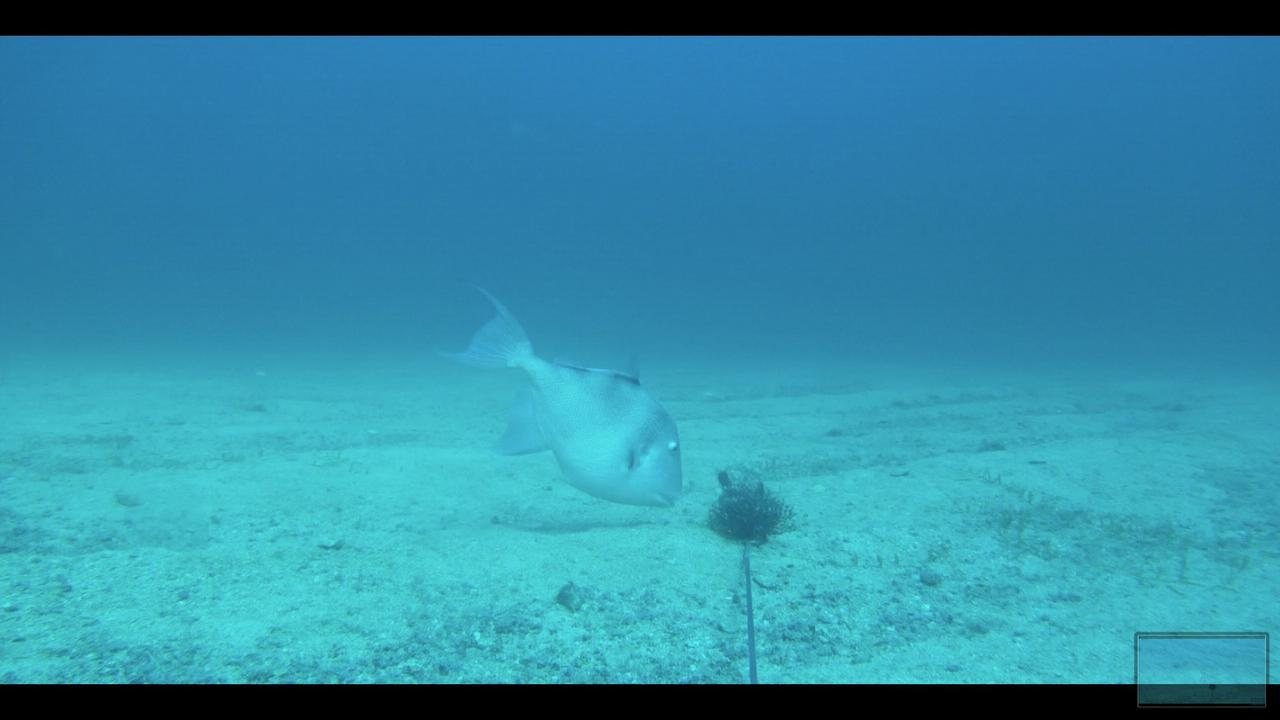balistes: (450, 286, 689, 512)
